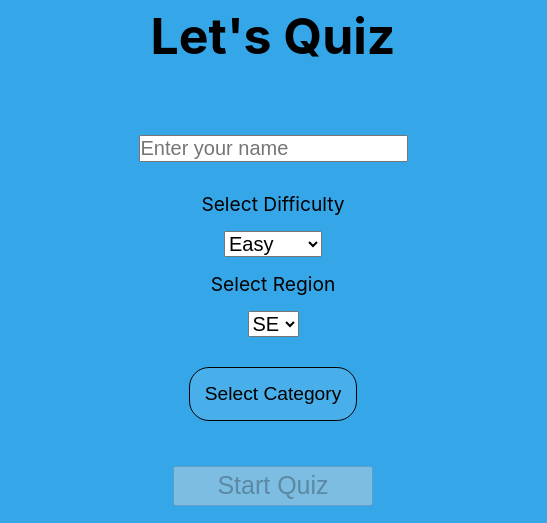
Test case: Testing elements › check if button is clickable
The width and height of the screenshot is (547, 523).
// Enter nameInput
Type "Fred" into the field with placeholder "Enter your name" at point(273, 148), box [138,135,408,162]
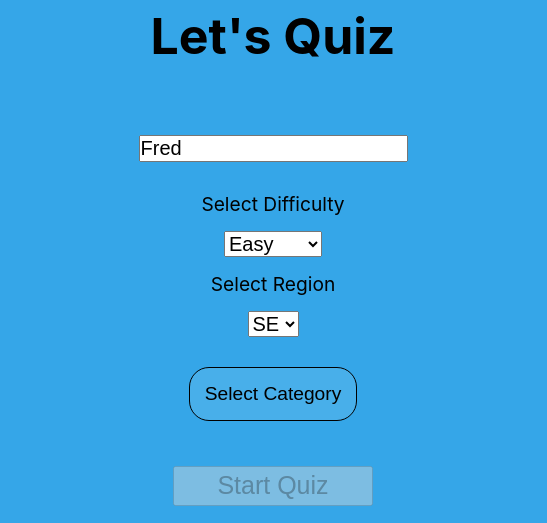
// Click categoryButton
Click the button "Select Category" at point(273, 394), box [189,367,357,421]
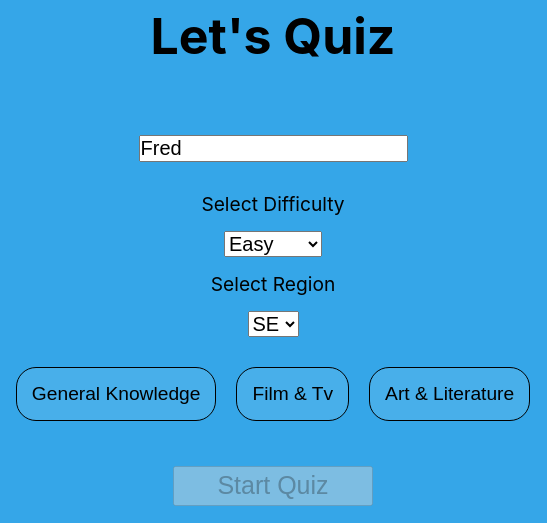
// Click on the second button
Click the button "Film & Tv" at point(293, 394), box [236,367,349,421]
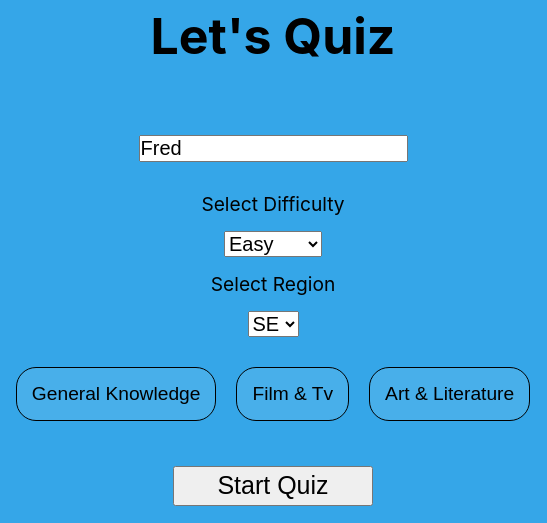
Expected: the button "Start Quiz" is enabled, [173,466,373,506]
